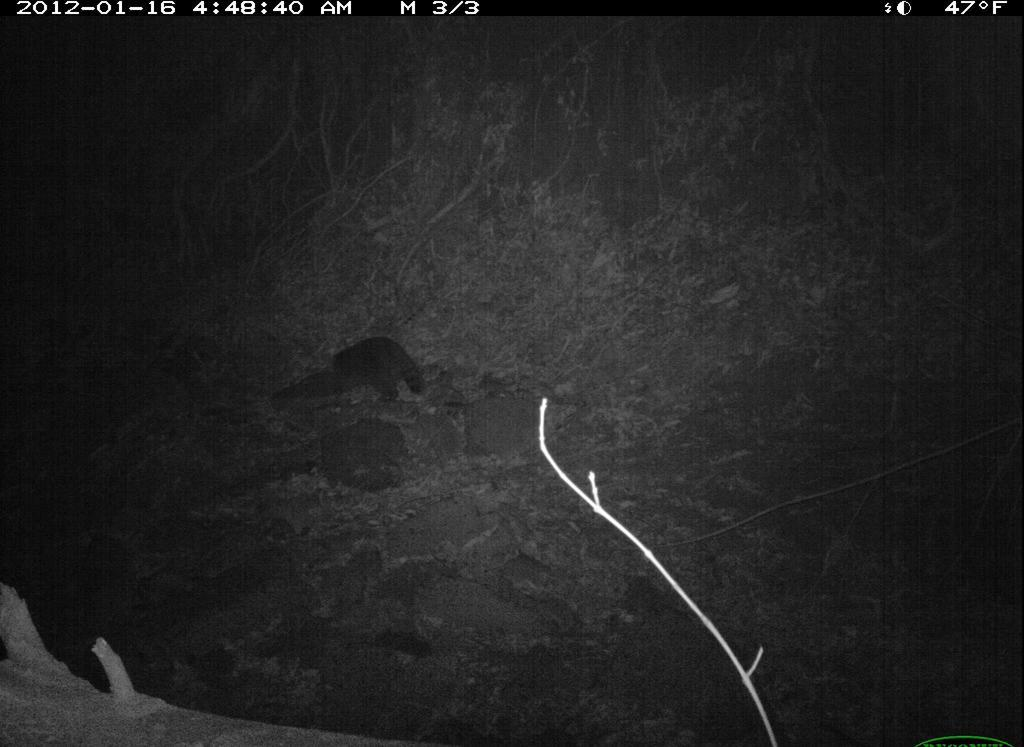raccoon: (313, 327, 434, 418)
